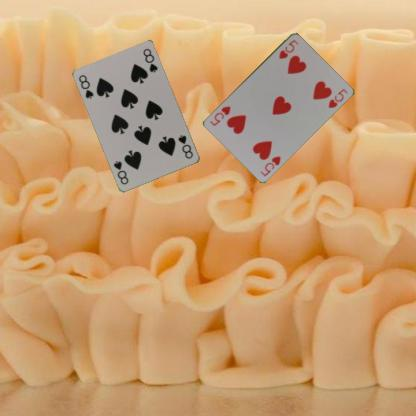5h: (258, 153, 282, 177), (276, 36, 299, 60)
8s: (76, 72, 95, 100), (176, 132, 194, 160)
